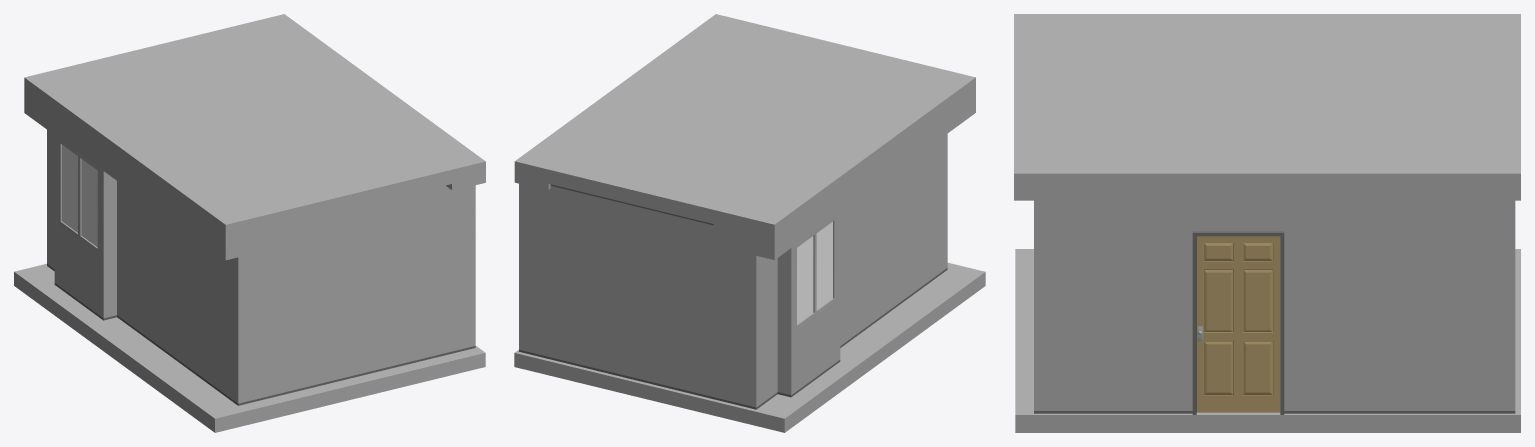
Rendered from FloorPlan307_physics.fbx.
3 renders of one model, left to right at view 1: azimuth 30°, elevation 25°; view 2: azimuth 150°, elevation 25°; view 3: azimuth 270°, elevation 25°, orthographic. The views are drawn at different scales.
Visible parts, largest first — view 1: FP307:Ceiling.004, FP307:StandardWallSize.004, FP307:Floor.004, FP307:StandardWindowPane1, FP307:StandardWindow1; view 2: FP307:StandardWallSize.004, FP307:Ceiling.004, FP307:Floor.004, FP307:StandardWindowPane1, FP307:StandardWindow1; view 3: FP307:Ceiling.004, FP307:StandardWallSize.004, FP307:StandardDoor1.004, FP307:Floor.004, FP307:StandardDoorFrame1.004.
Boxes of the visible parts, <box> form: FP307:Ceiling.004: <box>24,14,485,260</box>; FP307:StandardWallSize.004: <box>47,130,475,405</box>; FP307:Floor.004: <box>14,263,485,432</box>; FP307:StandardWindowPane1: <box>62,145,97,246</box>; FP307:StandardWindow1: <box>58,139,99,253</box>; FP307:StandardWallSize.004: <box>519,134,947,409</box>; FP307:Ceiling.004: <box>514,14,975,259</box>; FP307:Floor.004: <box>514,262,985,432</box>; FP307:StandardWindowPane1: <box>797,221,832,324</box>; FP307:StandardWindow1: <box>795,216,836,330</box>; FP307:Ceiling.004: <box>1014,14,1520,200</box>; FP307:StandardWallSize.004: <box>1034,200,1515,413</box>; FP307:StandardDoor1.004: <box>1196,236,1280,412</box>; FP307:Floor.004: <box>1015,249,1520,432</box>; FP307:StandardDoorFrame1.004: <box>1192,231,1284,414</box>.
Size of the model in its own units: 399 by 290 by 514.
